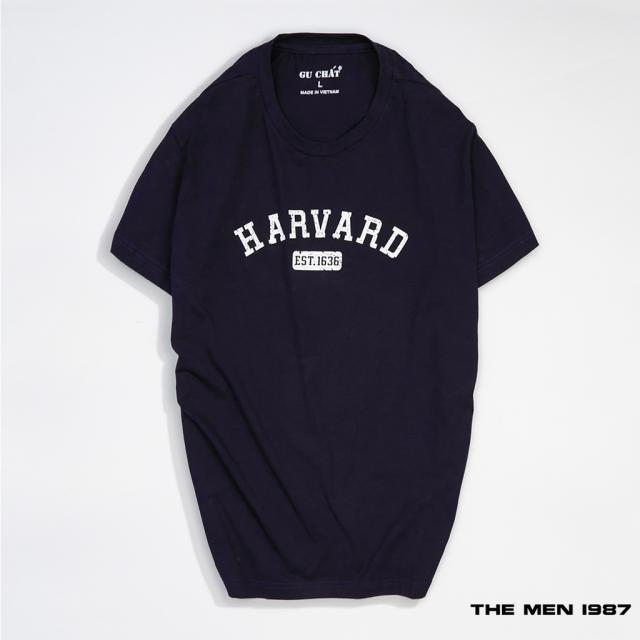Shirt: (111, 26, 539, 605)
